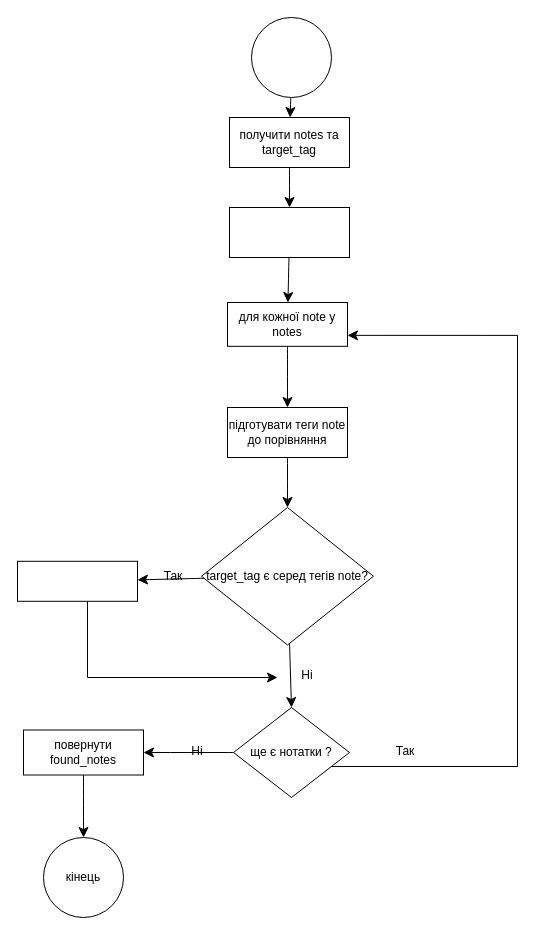
Image size: 545x935. Some labels were removed from this diagram. The box of each missing label's shape, as (x1, y1, x2, y2) in pixels:
додати note до found_notes: (16, 560, 138, 601)
початок: (250, 16, 332, 98)
створити порожній список found_notes: (228, 206, 350, 258)
